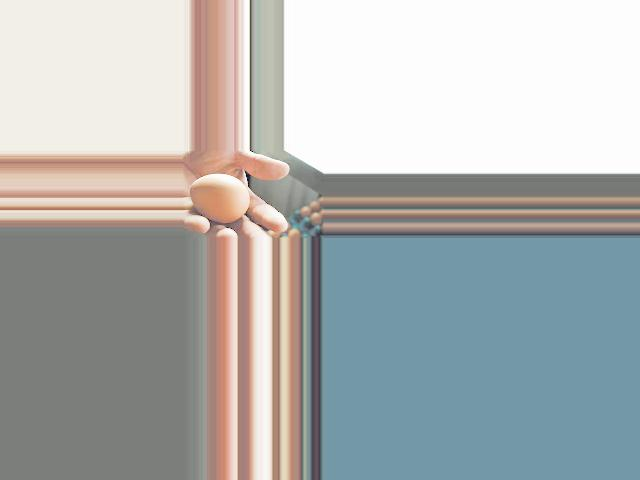egg: (188, 174, 249, 224)
